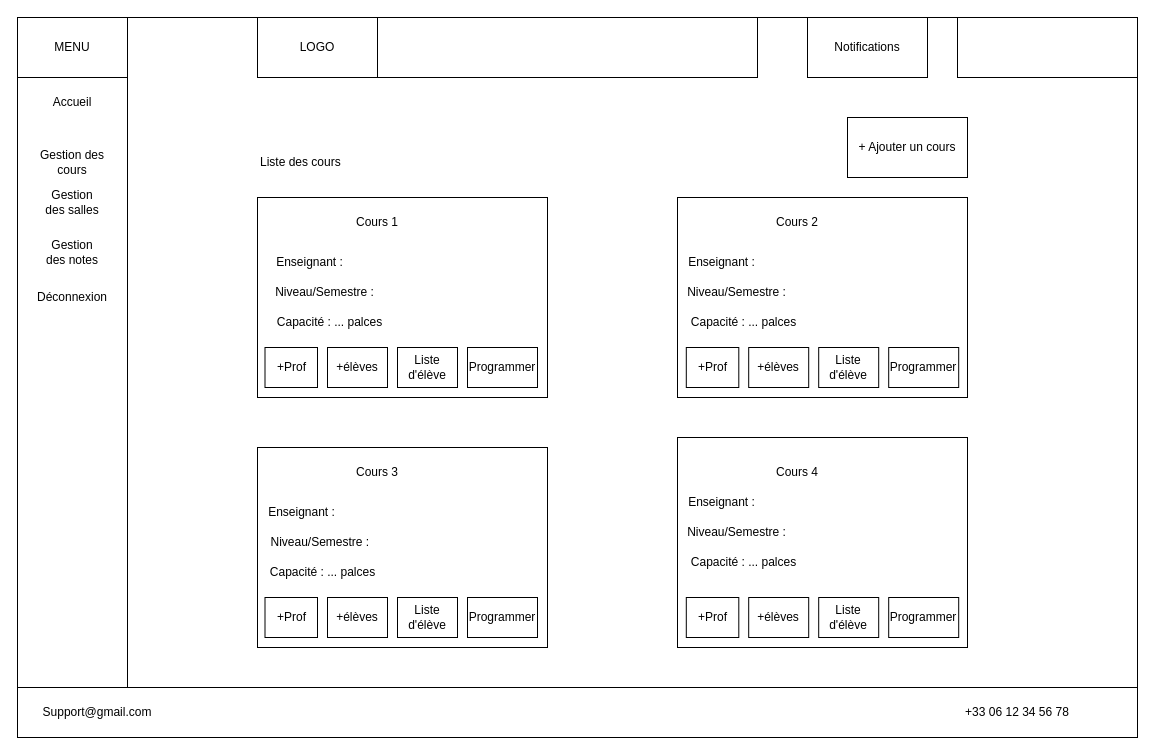
Image size: 1155x755. Some labels were removed from this diagram. The centre of each missing label's shape, as x and y in pixels:
Nom de l'utilisateur: the point at 1047,47
Nom du site: the point at 567,47
